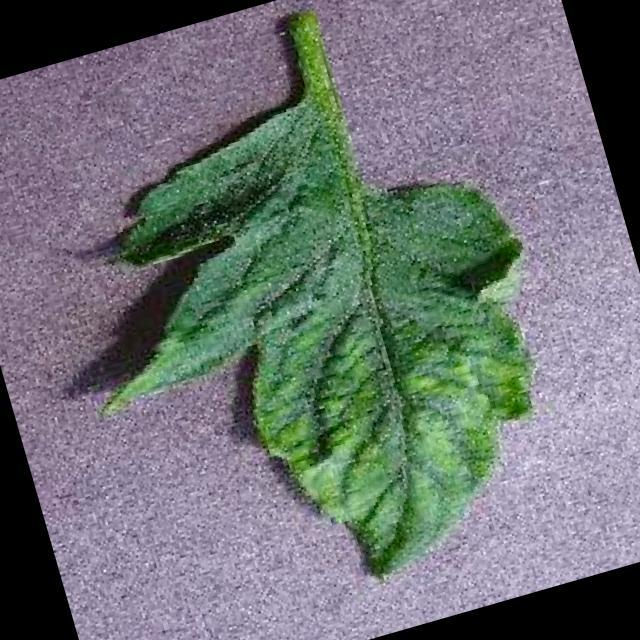Tomato mosaic virus leaf: (34, 46, 611, 640)
